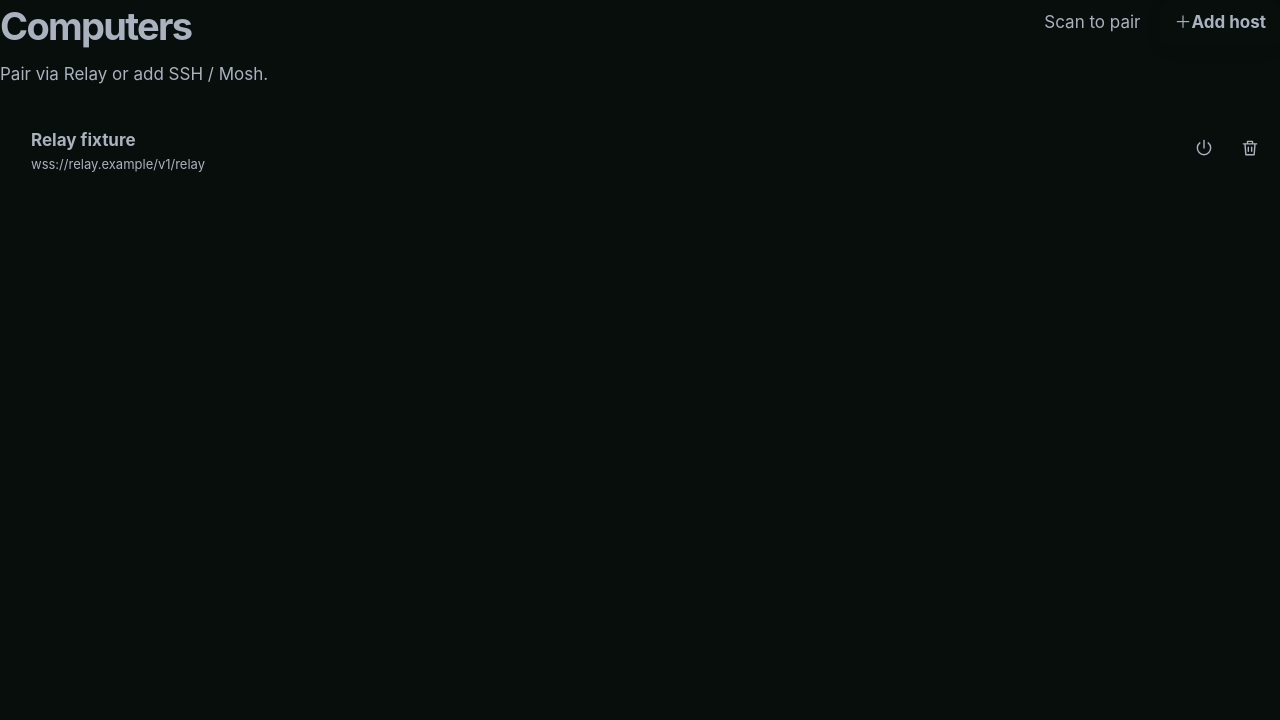
Test case: host authentication manager › edits Relay metadata without SSH fields and reconciles only through native authorization
This screenshot has width=1280, height=720.
Click the button "Relay fixture wss://relay.example/v1/relay" at (83, 140), box [12,126,1180,177]
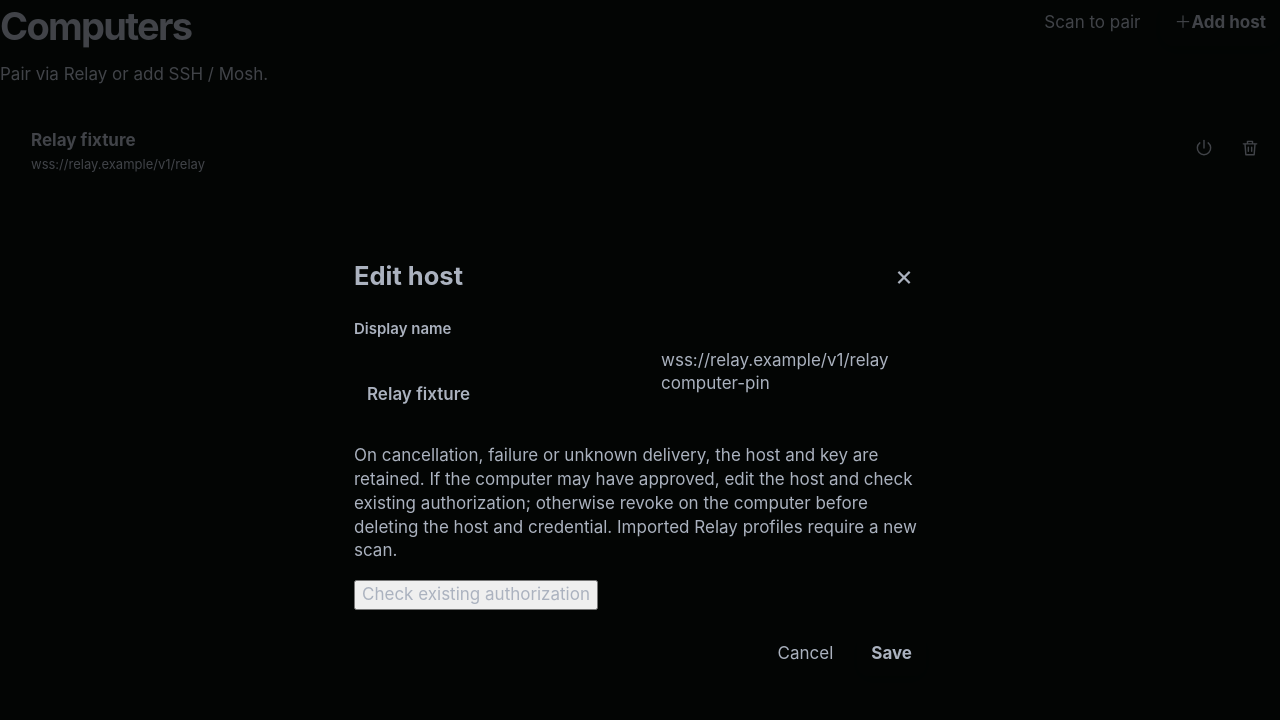
Expected: the field labelled "Password" is not shown
Expected: the text "computer-pin" is shown, [661,373,770,393]
Click the button "Check existing authorization" at (476, 595), box [354,580,598,610]
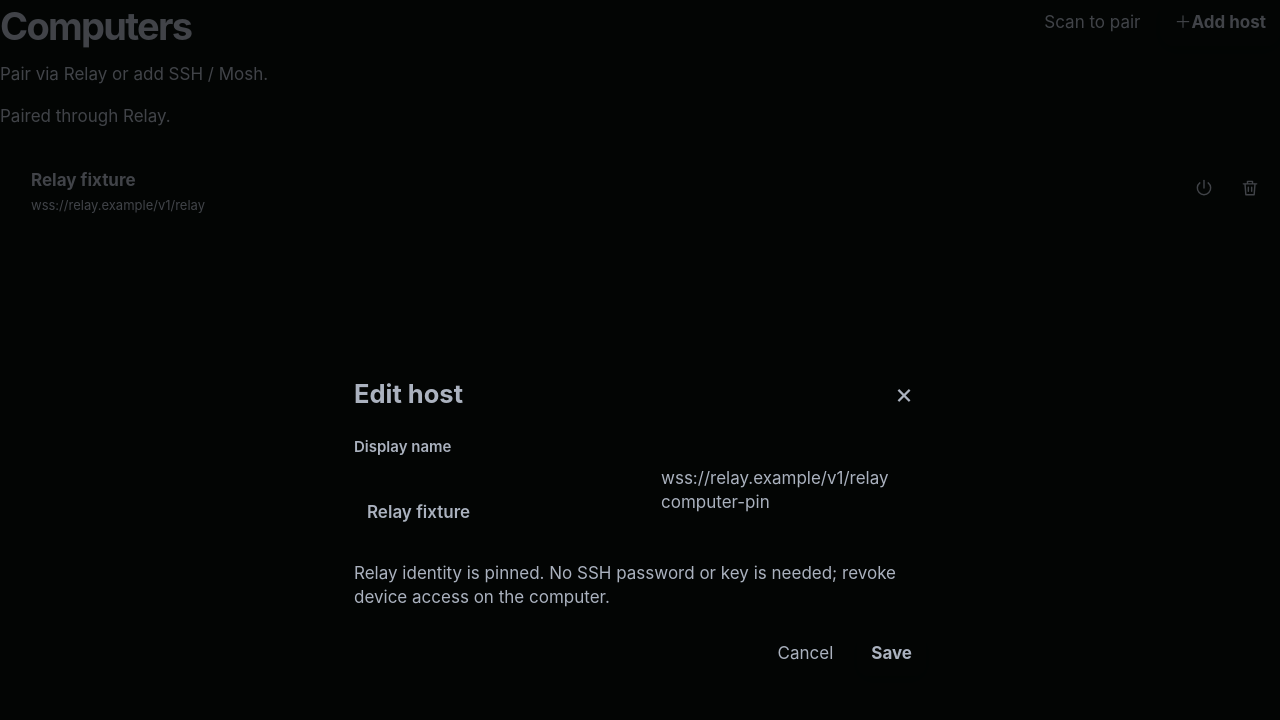
Expected: the text "Relay identity is pinned" is shown, [354,563,896,607]
